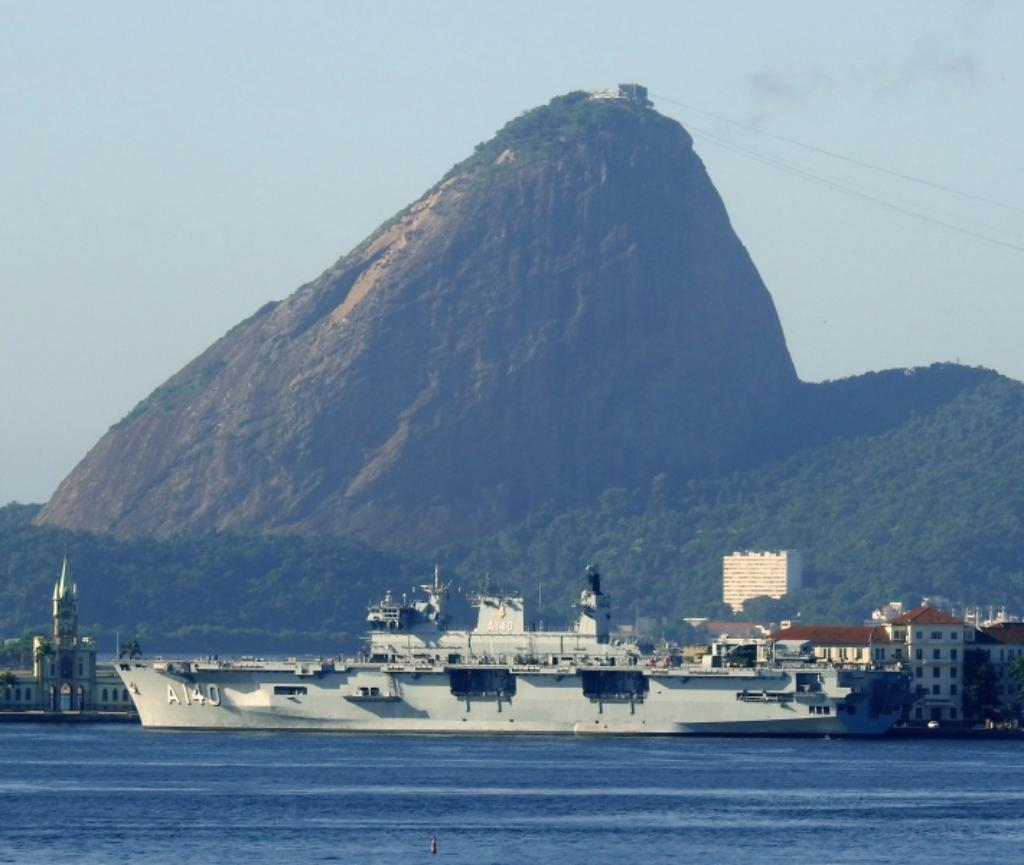Warship: (100, 558, 916, 748)
